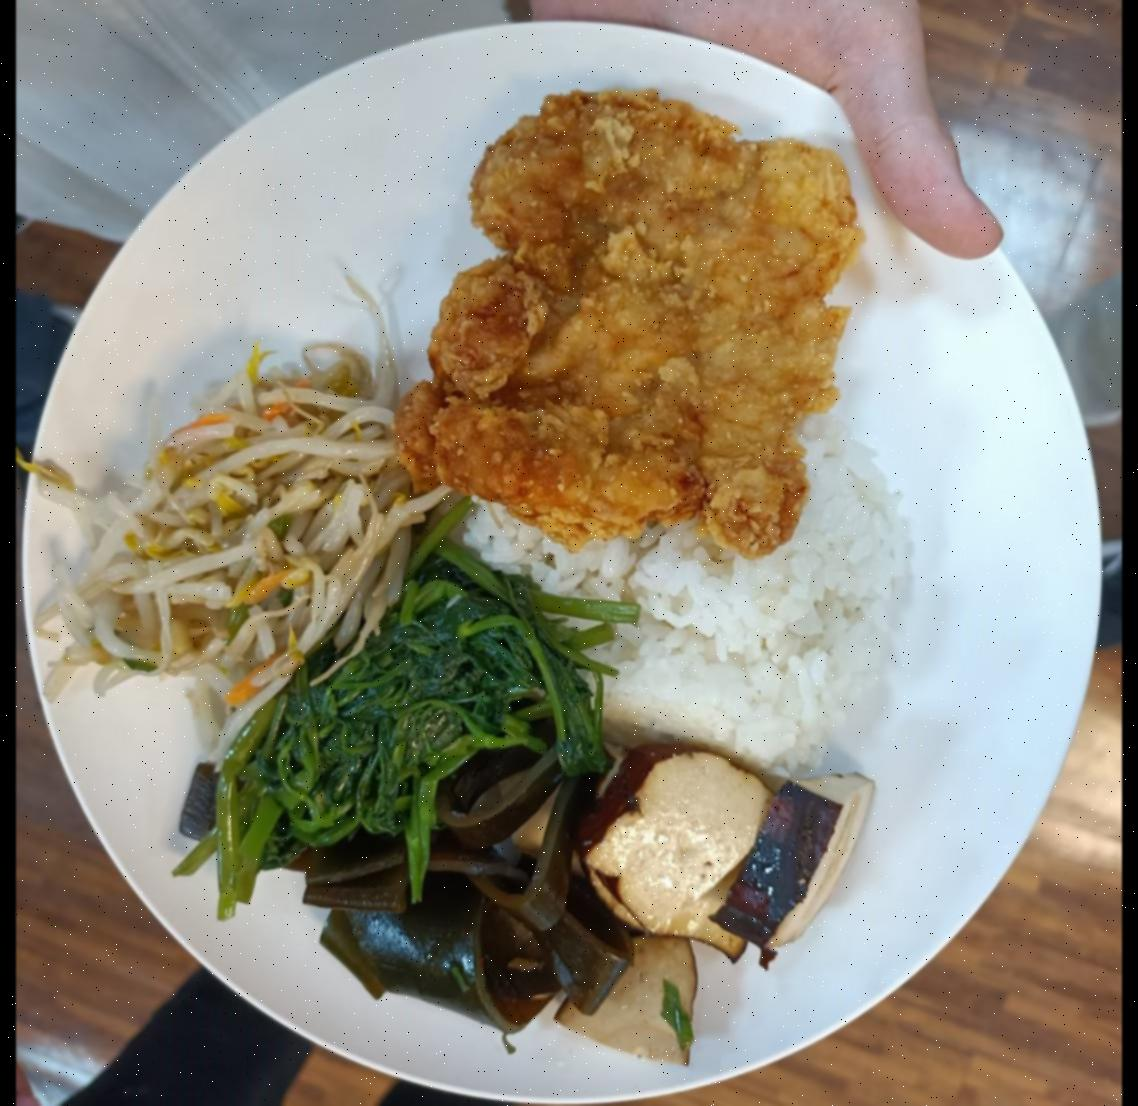big fried chicken leg: (29, 14, 1110, 1106)
big herbal chicken leg: (455, 360, 915, 756)
braised fish fillet: (339, 751, 854, 1019), (76, 343, 406, 704), (226, 574, 584, 852)
braised pork: (399, 83, 860, 546)
